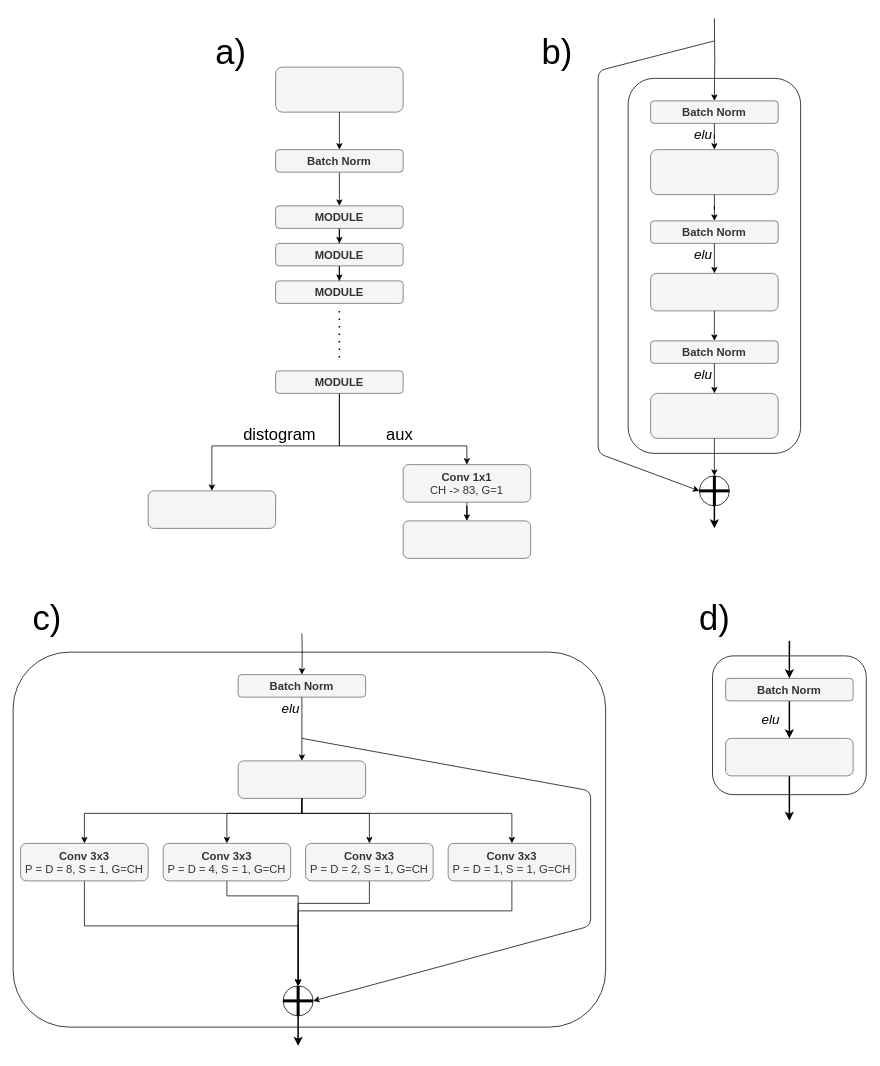
This 880x1066 diagram has some shape labels left out. The shapes that lost their labels are listed below. From the top down, each one's box as (x1, y1, x2, y2) in pixels, then its label:
(275, 66, 403, 112): PROJECT DOWN Conv 1x1 569 -> CH
(650, 149, 778, 195): PROJECT DOWN Conv 1x1 CH -> CH / 2
(650, 273, 778, 311): Conv 3x3 P = D, S = 1, G
(650, 393, 778, 438): Project Up Conv 1x1 CH / 2 -> CH
(147, 490, 276, 528): Conv 1x1 CH -> CH
(402, 520, 531, 558): Conv 64x1 G = 83
(725, 738, 853, 776): Conv 5x5 S = 1, G=1
(237, 760, 366, 798): Conv 1x1 CH -> CH, G=1
